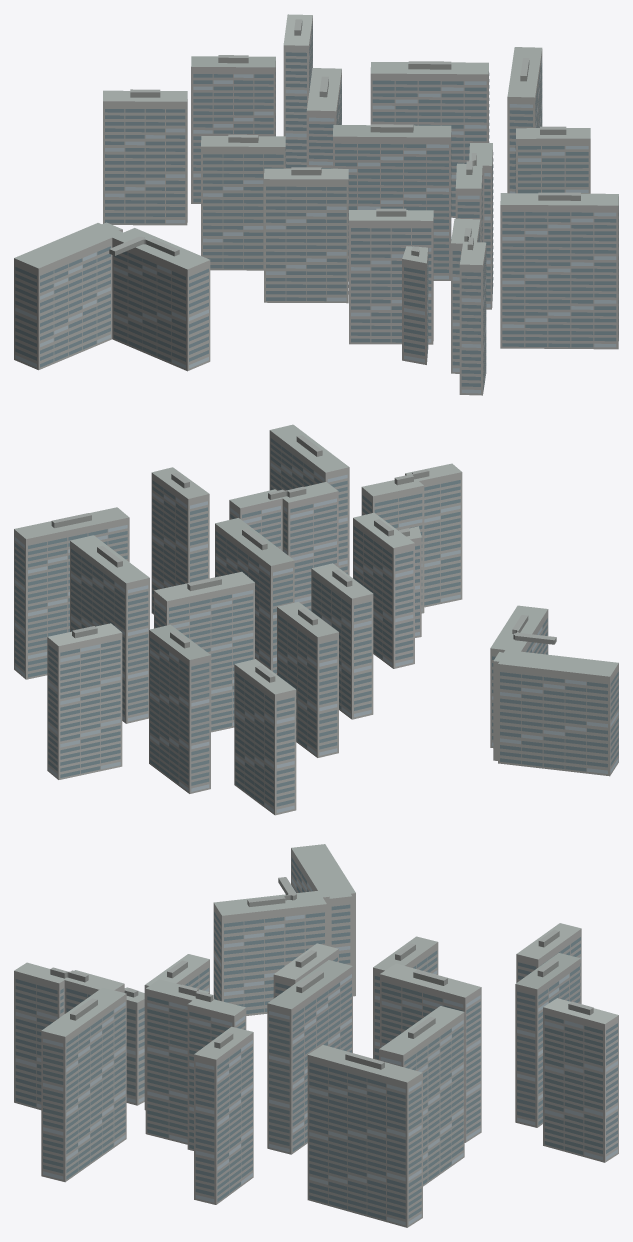
The model's file is apt-a13376906.glb.
3 renders of one model, top to bottom at view 1: azimuth 30°, elevation 25°; view 2: azimuth 150°, elevation 25°; view 3: azimuth 270°, elevation 25°, orthographic. The views are drawn at different scales.
Parts seen in each view (by area): view 1: apt-a13376906; view 2: apt-a13376906; view 3: apt-a13376906.
Part boxes in pixels (x1,y1,x2,y2): apt-a13376906: (14,14,618,395); apt-a13376906: (14,424,618,815); apt-a13376906: (14,844,618,1227).
Size of the model in its own units: 268 by 67 by 244.
